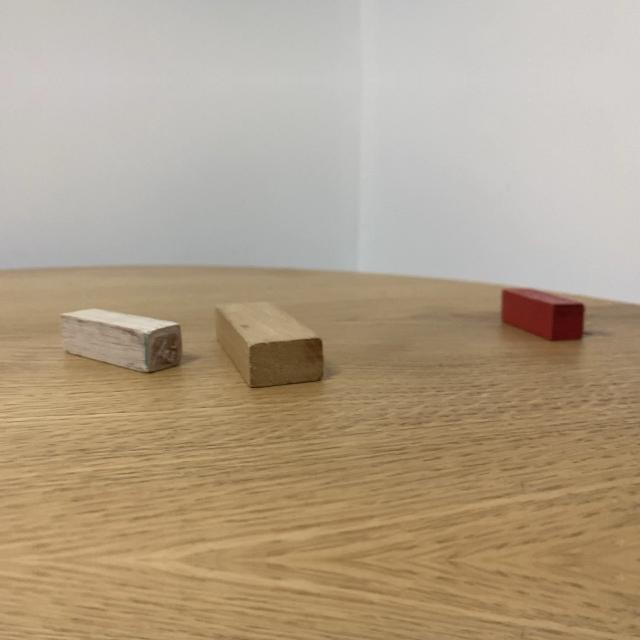block: (59, 307, 183, 374)
jenga: (218, 298, 324, 389)
red block: (501, 289, 585, 341)
